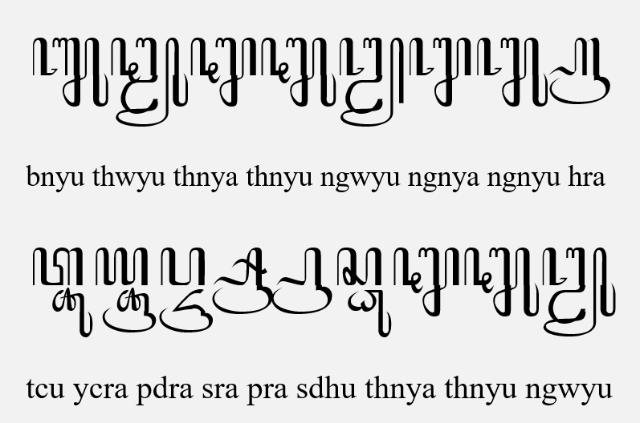_cr: (102, 287, 156, 334)
_cu: (51, 287, 93, 338)
_dhu: (347, 290, 393, 338)
_dr: (158, 289, 214, 335)
_pr: (272, 247, 332, 316)
_sr: (212, 246, 274, 315)
bnyu: (32, 36, 110, 107)
hr: (549, 36, 611, 106)
ngnya: (408, 36, 472, 107)
ngnyu: (476, 36, 548, 107)
ngwyu: (542, 248, 618, 338), (338, 36, 406, 128)
p: (160, 247, 207, 287)
s: (336, 247, 382, 287)
t: (32, 247, 84, 287)
thny: (392, 248, 460, 318), (190, 36, 256, 106)
thnyu: (261, 36, 337, 108), (464, 247, 540, 319)
thwyu: (111, 36, 189, 128)
y: (94, 247, 150, 287)
